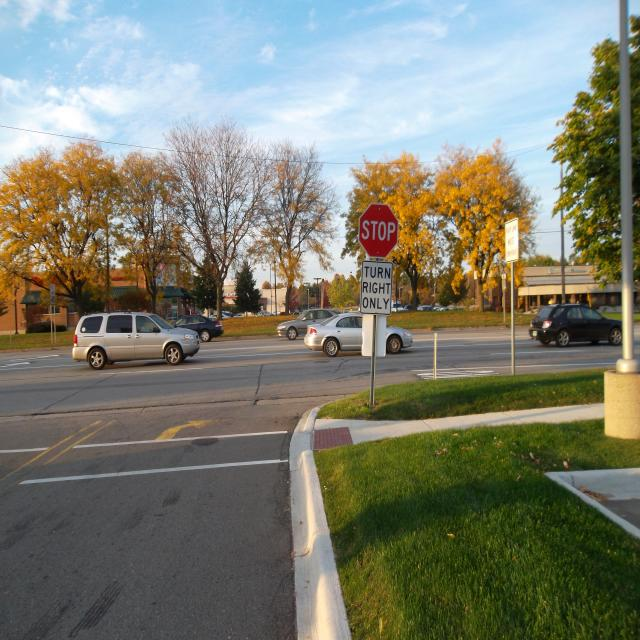regulatory: (359, 260, 393, 315), (504, 217, 520, 263)
stop: (357, 200, 400, 262)
